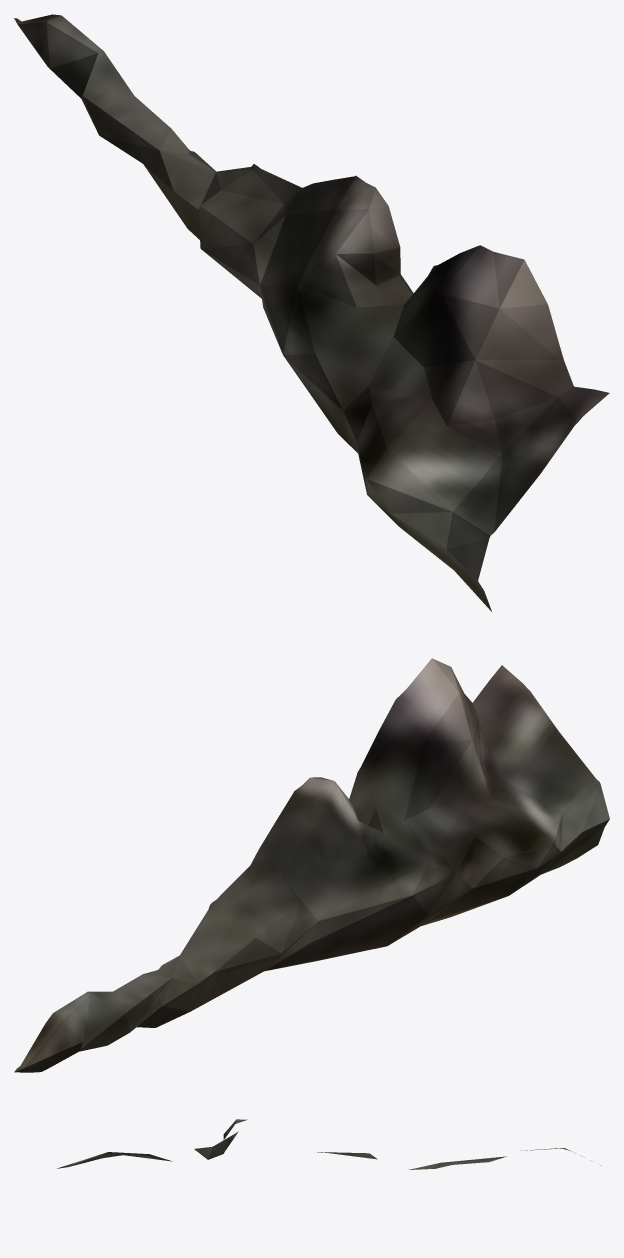
3 views of the same model, one above another, from view 1: azimuth 30°, elevation 25°; view 2: azimuth 150°, elevation 25°; view 3: azimuth 270°, elevation 25° (orthographic). The views are drawn at different scales.
Bounding box in the file's own units: 0.1302 × 0.2316 × 0.8776.
1 material, 1 textured.
